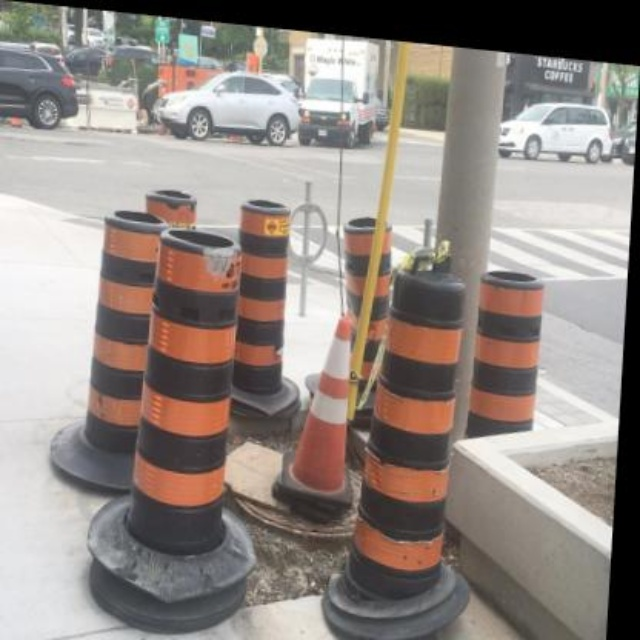obstacle: (136, 226, 247, 556), (364, 260, 468, 588), (84, 195, 150, 458), (234, 189, 296, 395)
